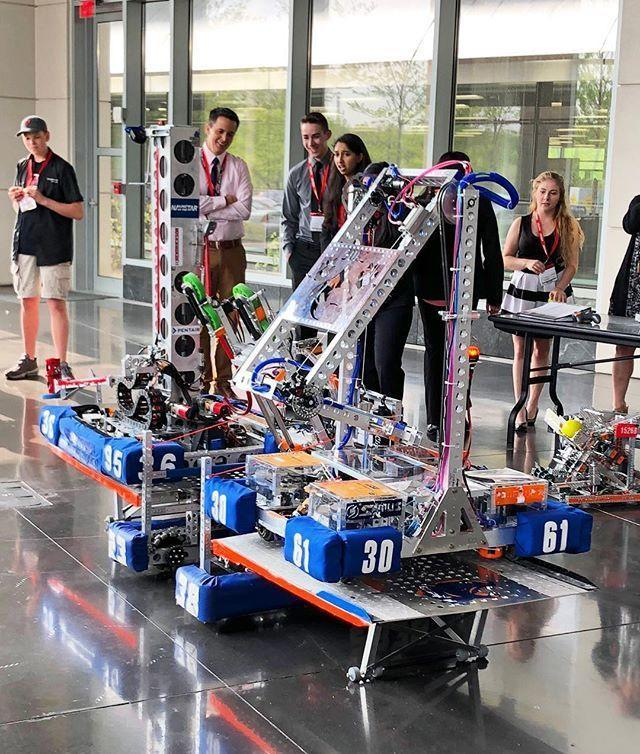robot: (201, 143, 601, 582), (33, 109, 301, 492)
